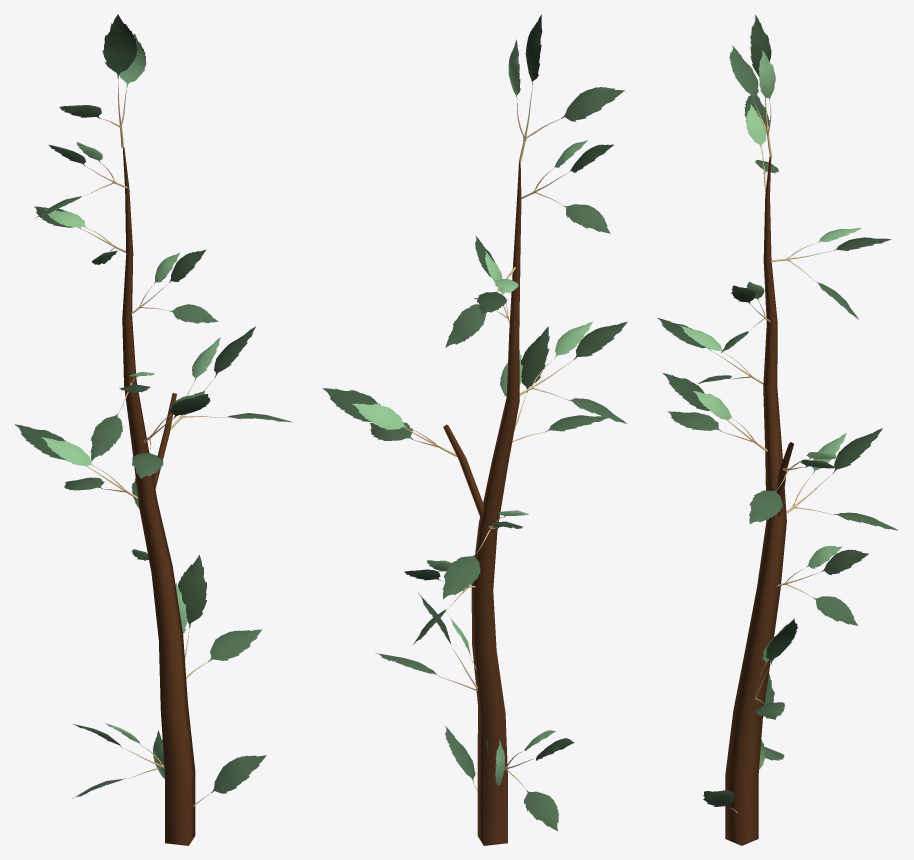
File: Tree14.fbx
The picture shows the model from 3 angles, left to right: view 1: azimuth 30°, elevation 25°; view 2: azimuth 150°, elevation 25°; view 3: azimuth 270°, elevation 25°; orthographic projection. The views are drawn at different scales.
Parts seen in each view (by area): view 1: Árbol.002, Hojas|tree|Dupli|6, Hojas|tree|Dupli|5, Hojas|tree|Dupli|, Hojas|tree|Dupli|1, Hojas|tree|Dupli|4, Hojas|tree|Dupli|8, Hojas|tree|Dupli|2, Hojas|tree|Dupli|3, Hojas|tree|Dupli|7, Hojas|tree|Dupli|9, Hojas|tree|Dupli|10; view 2: Árbol.002, Hojas|tree|Dupli|5, Hojas|tree|Dupli|4, Hojas|tree|Dupli|3, Hojas|tree|Dupli|2, Hojas|tree|Dupli|9, Hojas|tree|Dupli|7, Hojas|tree|Dupli|10, Hojas|tree|Dupli|, Hojas|tree|Dupli|8, Hojas|tree|Dupli|6, Hojas|tree|Dupli|11 (+1 smaller); view 3: Árbol.002, Hojas|tree|Dupli|5, Hojas|tree|Dupli|2, Hojas|tree|Dupli|11, Hojas|tree|Dupli|, Hojas|tree|Dupli|4, Hojas|tree|Dupli|7, Hojas|tree|Dupli|6, Hojas|tree|Dupli|3, Hojas|tree|Dupli|9, Hojas|tree|Dupli|1, Hojas|tree|Dupli|8.
Part boxes in pixels (bbox=[...]): Árbol.002: bbox=[122, 147, 195, 845]; Hojas|tree|Dupli|6: bbox=[175, 555, 261, 678]; Hojas|tree|Dupli|5: bbox=[59, 14, 146, 147]; Hojas|tree|Dupli|: bbox=[15, 424, 138, 499]; Hojas|tree|Dupli|1: bbox=[131, 249, 218, 323]; Hojas|tree|Dupli|4: bbox=[170, 326, 292, 429]; Hojas|tree|Dupli|8: bbox=[152, 730, 266, 806]; Hojas|tree|Dupli|2: bbox=[132, 391, 210, 478]; Hojas|tree|Dupli|3: bbox=[90, 372, 154, 461]; Hojas|tree|Dupli|7: bbox=[34, 206, 125, 264]; Hojas|tree|Dupli|9: bbox=[35, 142, 127, 218]; Hojas|tree|Dupli|10: bbox=[72, 723, 164, 798]; Árbol.002: bbox=[443, 161, 521, 845]; Hojas|tree|Dupli|5: bbox=[508, 14, 624, 161]; Hojas|tree|Dupli|4: bbox=[322, 388, 457, 456]; Hojas|tree|Dupli|3: bbox=[519, 321, 627, 423]; Hojas|tree|Dupli|2: bbox=[500, 326, 607, 441]; Hojas|tree|Dupli|9: bbox=[521, 140, 613, 233]; Hojas|tree|Dupli|7: bbox=[445, 267, 518, 347]; Hojas|tree|Dupli|10: bbox=[504, 730, 574, 830]; Hojas|tree|Dupli|: bbox=[442, 510, 528, 599]; Hojas|tree|Dupli|8: bbox=[445, 726, 505, 791]; Hojas|tree|Dupli|6: bbox=[375, 593, 477, 690]; Hojas|tree|Dupli|11: bbox=[404, 560, 475, 644]; Árbol.002: bbox=[725, 157, 793, 845]; Hojas|tree|Dupli|5: bbox=[729, 14, 775, 156]; Hojas|tree|Dupli|2: bbox=[662, 373, 767, 451]; Hojas|tree|Dupli|11: bbox=[777, 545, 868, 625]; Hojas|tree|Dupli|: bbox=[786, 428, 898, 530]; Hojas|tree|Dupli|4: bbox=[749, 452, 837, 524]; Hojas|tree|Dupli|7: bbox=[770, 228, 891, 319]; Hojas|tree|Dupli|6: bbox=[754, 618, 797, 719]; Hojas|tree|Dupli|3: bbox=[657, 318, 763, 384]; Hojas|tree|Dupli|9: bbox=[744, 94, 778, 191]; Hojas|tree|Dupli|1: bbox=[721, 282, 770, 352]; Hojas|tree|Dupli|8: bbox=[703, 739, 765, 813].
Bounding box in the file's own units: 135 × 424 × 117.
